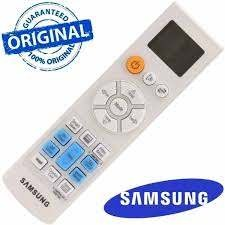remote control: (1, 74, 225, 169)
